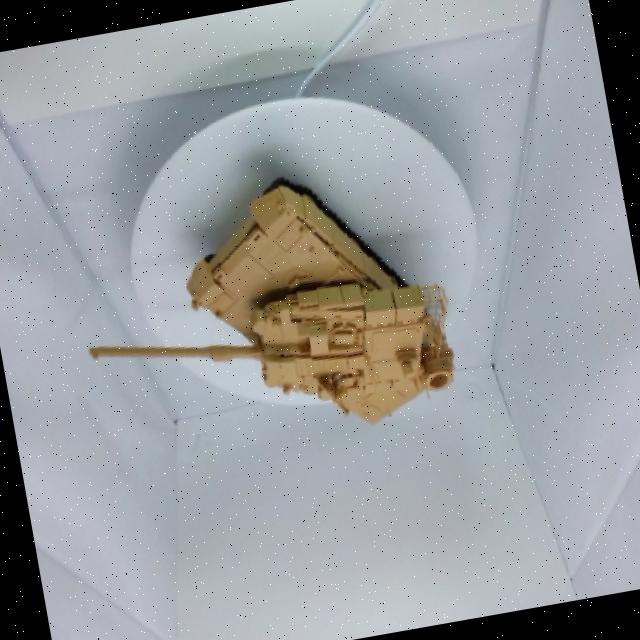korea tank: (48, 127, 488, 502)
